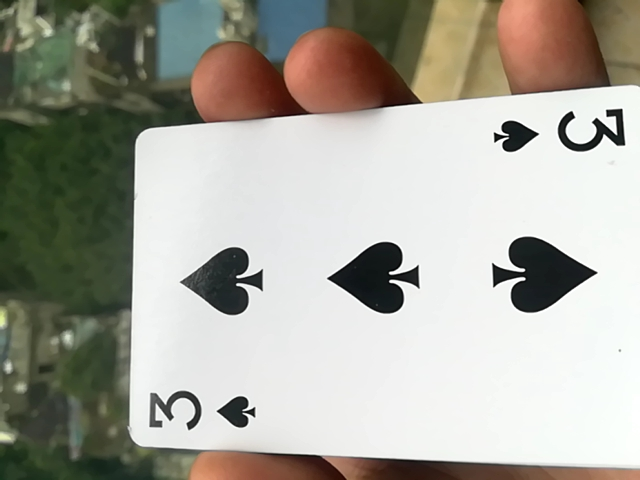ht 3: (117, 103, 638, 480)
